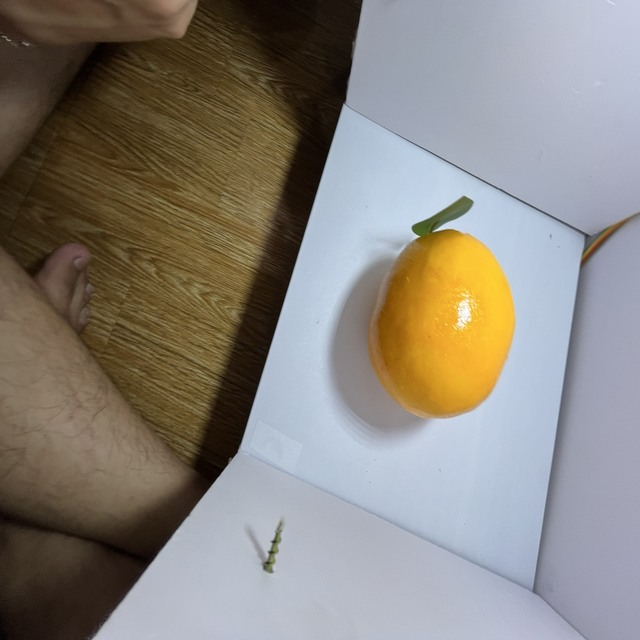Cam vang: (369, 216, 521, 422)
